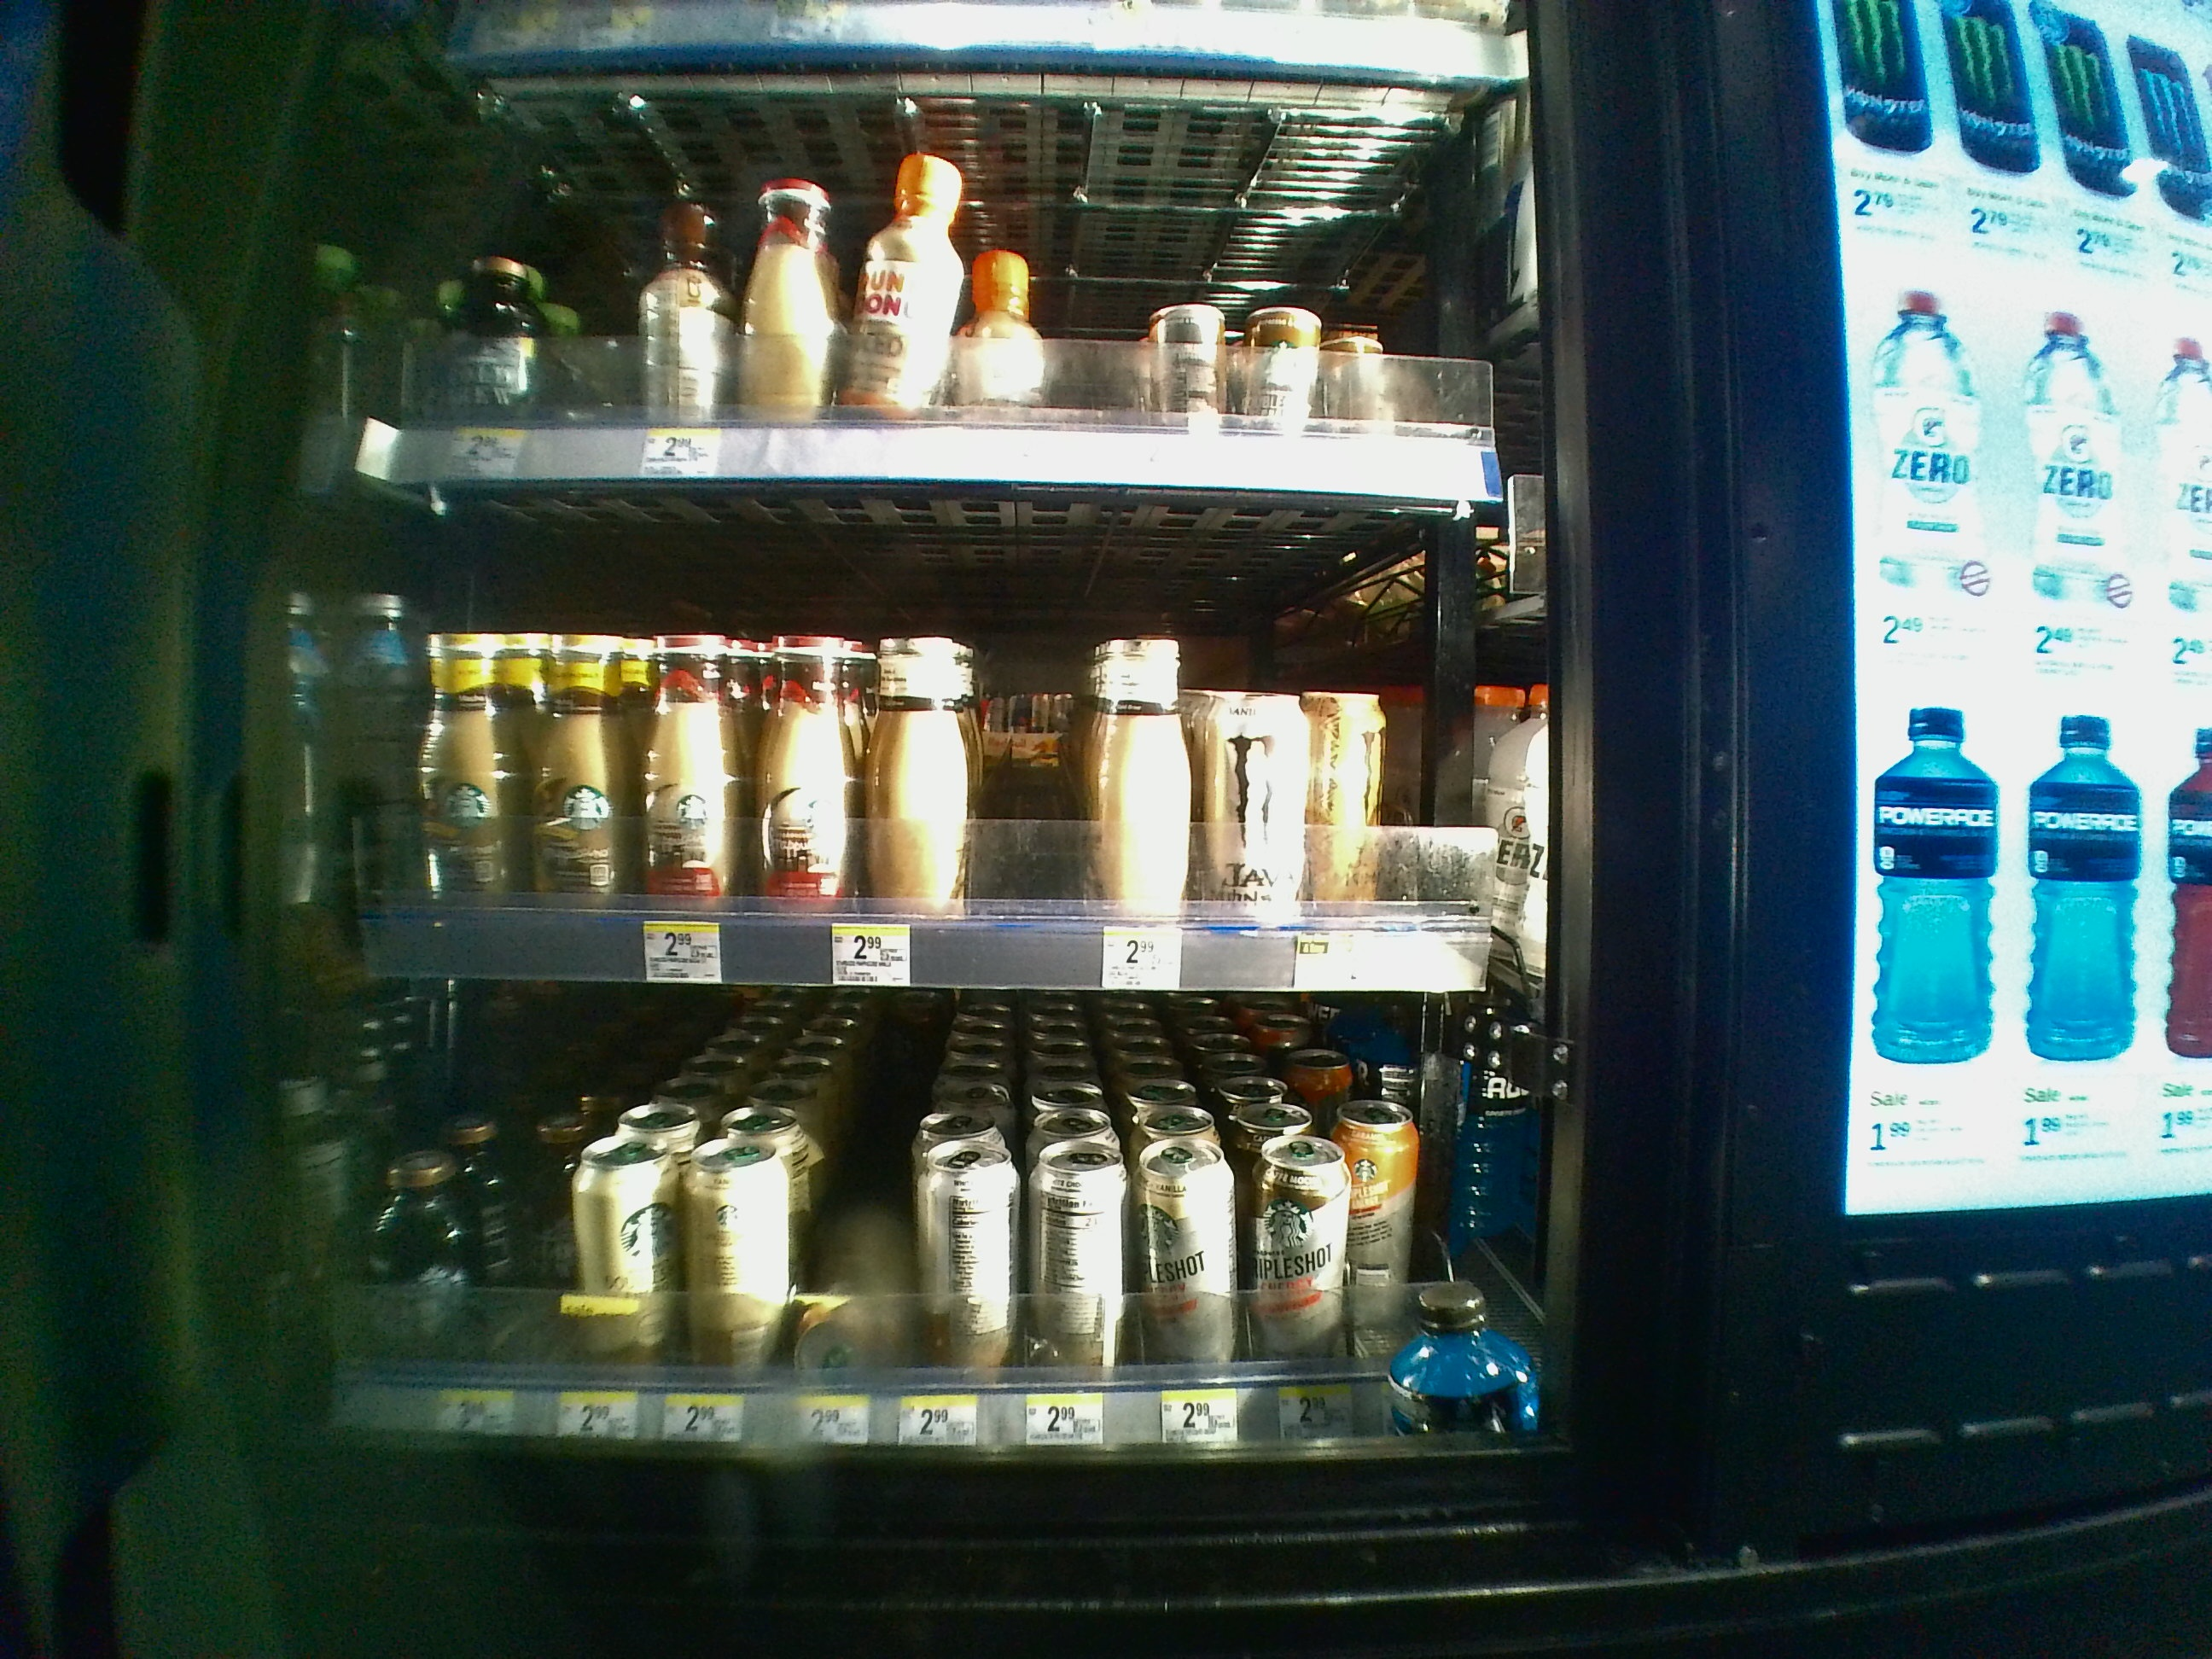shelf: (291, 486, 1569, 983), (287, 976, 1569, 1452)
